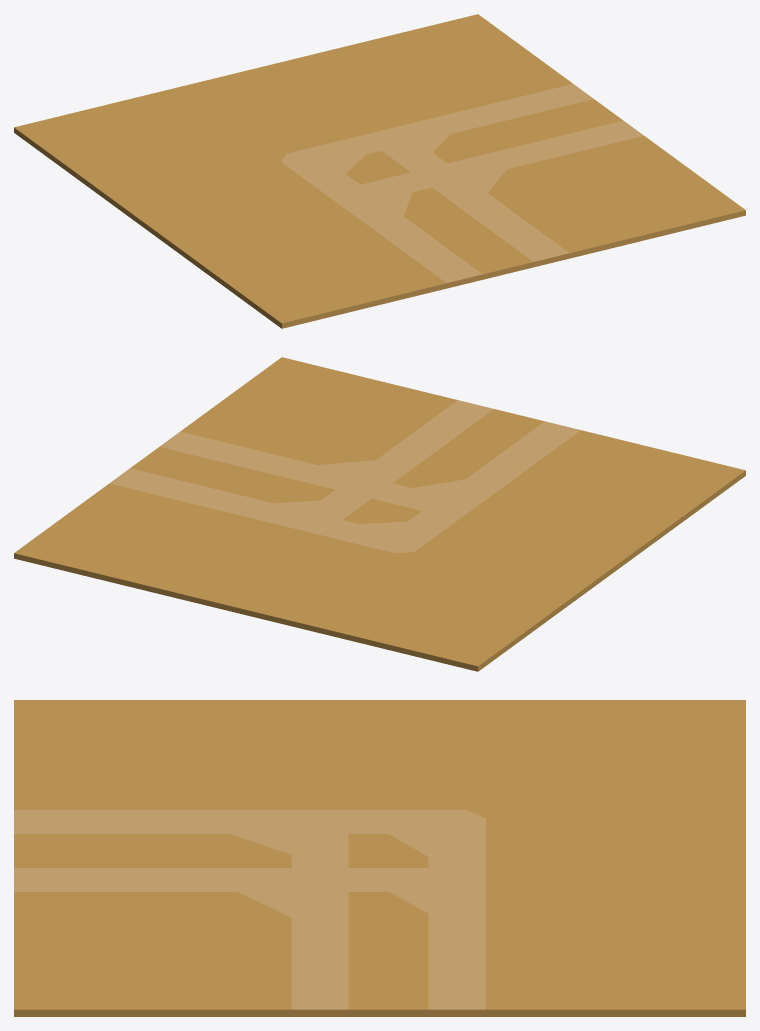
File: road5.fbx
3 renders of one model, top to bottom at view 1: azimuth 30°, elevation 25°; view 2: azimuth 150°, elevation 25°; view 3: azimuth 270°, elevation 25°, orthographic. The views are drawn at different scales.
Visible parts, largest first — view 1: Cube_31; view 2: Cube_31; view 3: Cube_31.
Part boxes in pixels (bbox=[...]): Cube_31: bbox=[14, 14, 745, 328]; Cube_31: bbox=[14, 357, 745, 671]; Cube_31: bbox=[14, 700, 745, 1016].
Size of the model in its own units: 699 by 7.81 by 699.
